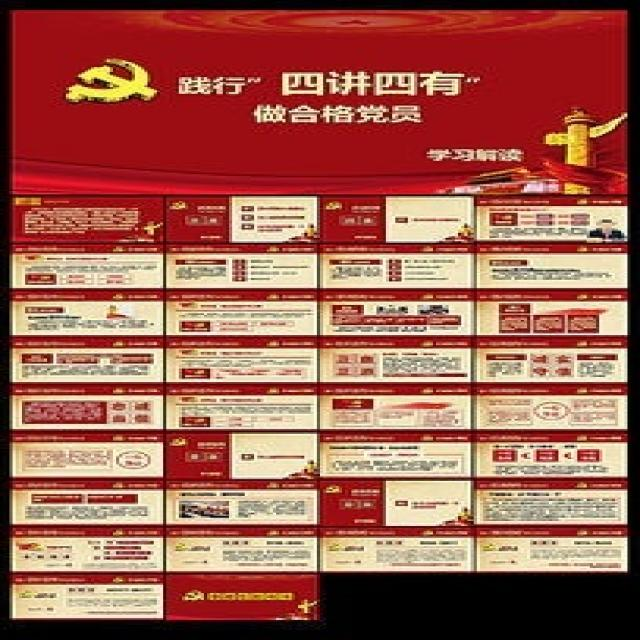box: (9, 431, 163, 481), (166, 335, 320, 384), (163, 573, 317, 622), (163, 384, 320, 432), (163, 479, 320, 526), (163, 526, 320, 573), (477, 194, 627, 243), (9, 337, 163, 384), (166, 432, 317, 479), (9, 385, 163, 431), (9, 290, 163, 335), (9, 481, 163, 526), (320, 528, 471, 573), (320, 481, 471, 526), (320, 431, 471, 476), (320, 384, 471, 429), (320, 335, 471, 380), (166, 290, 317, 335), (477, 245, 627, 290), (477, 290, 627, 335), (477, 335, 627, 380), (477, 382, 627, 427), (474, 429, 624, 474), (474, 479, 624, 524), (474, 526, 624, 571), (13, 528, 163, 573), (13, 573, 163, 618), (9, 246, 160, 288), (320, 292, 471, 333), (323, 245, 474, 286), (166, 245, 317, 286)
